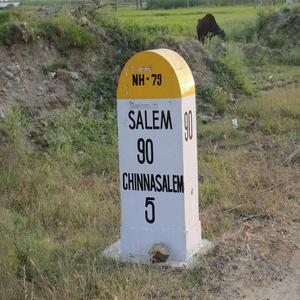kmstone: (114, 46, 201, 258)
